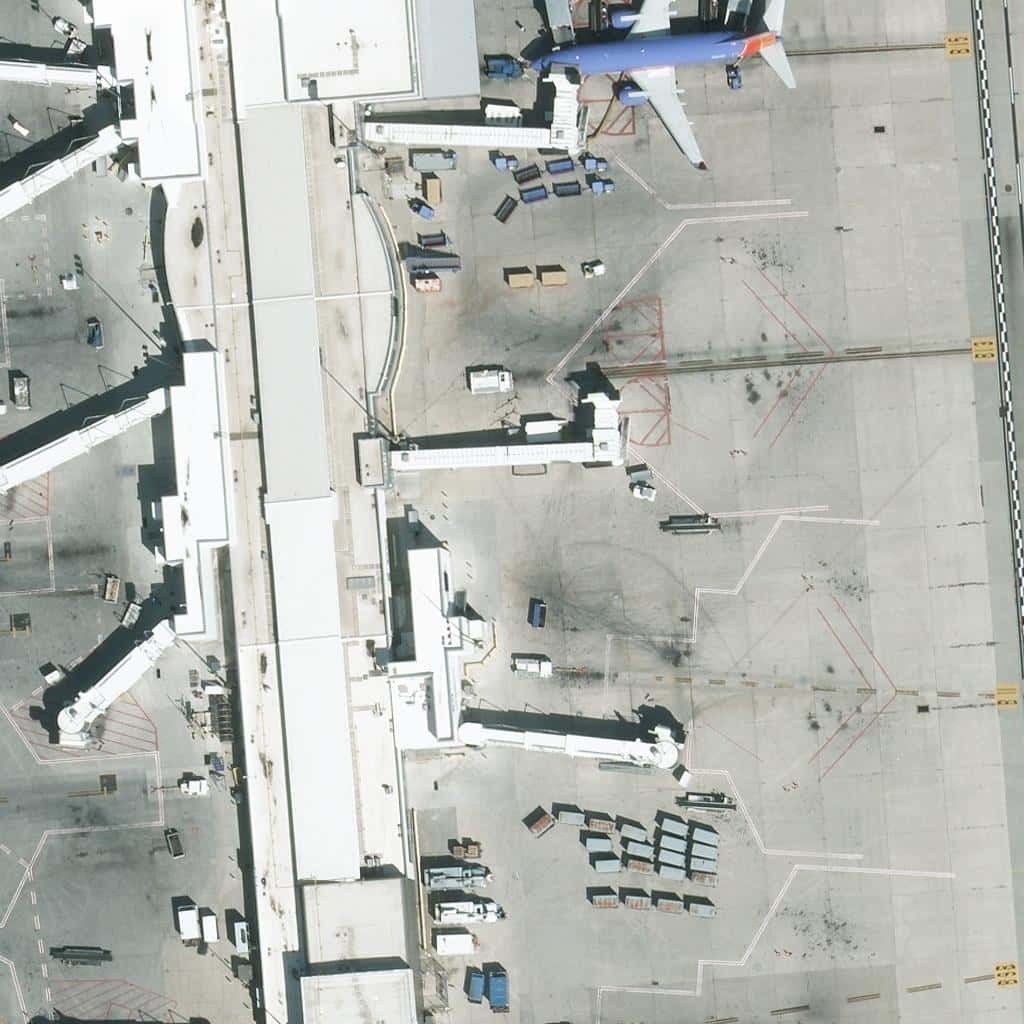plane: (529, 1, 817, 171)
